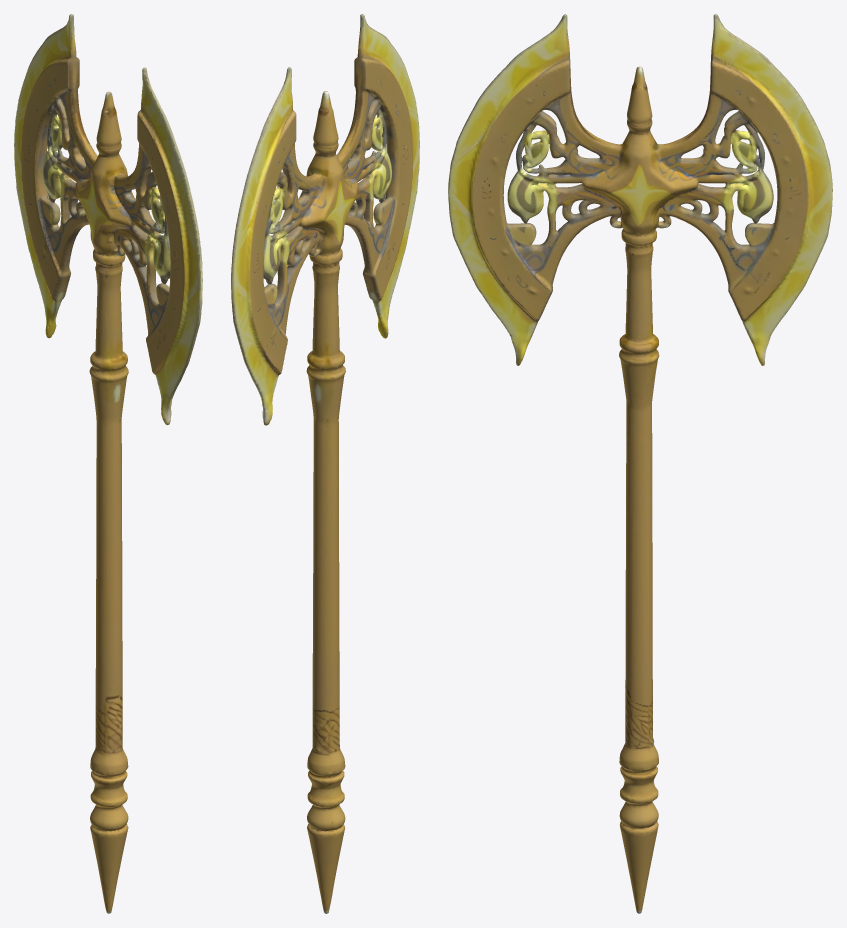
File: tripo_convert_4ca06d1b-e40d-4080-9a67-52c2b8cbb344.fbx
The picture shows the model from 3 angles, left to right: view 1: azimuth 30°, elevation 25°; view 2: azimuth 150°, elevation 25°; view 3: azimuth 270°, elevation 25°; orthographic projection. The views are drawn at different scales.
Visible parts, largest first — view 1: tripo_node_4ca06d1b; view 2: tripo_node_4ca06d1b; view 3: tripo_node_4ca06d1b.
Part boxes in pixels (<box>): tripo_node_4ca06d1b: <box>14,14,202,913</box>; tripo_node_4ca06d1b: <box>231,14,419,913</box>; tripo_node_4ca06d1b: <box>448,14,832,913</box>.
Bounding box in the file's own units: 0.0405 × 1 × 0.3877.
Materials: 1 (1 with a texture image).
